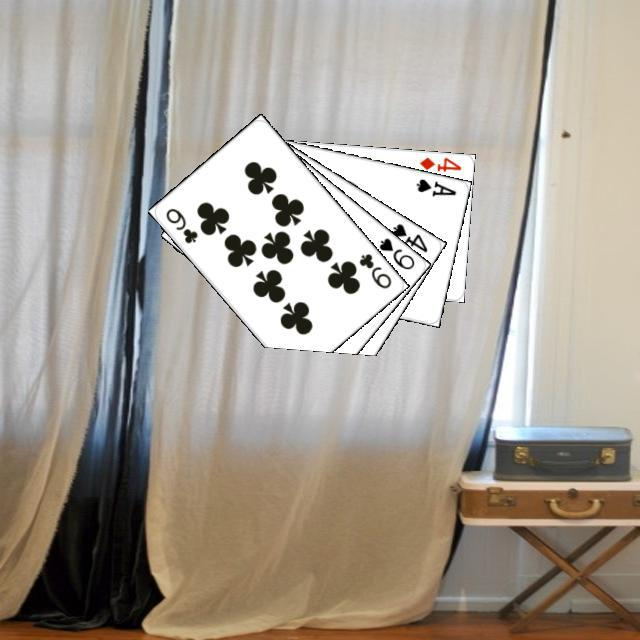4d: (415, 152, 463, 173)
4s: (387, 218, 429, 254)
9c: (354, 248, 393, 290), (161, 203, 199, 245)
9s: (374, 233, 416, 271)
As: (411, 174, 458, 198)
